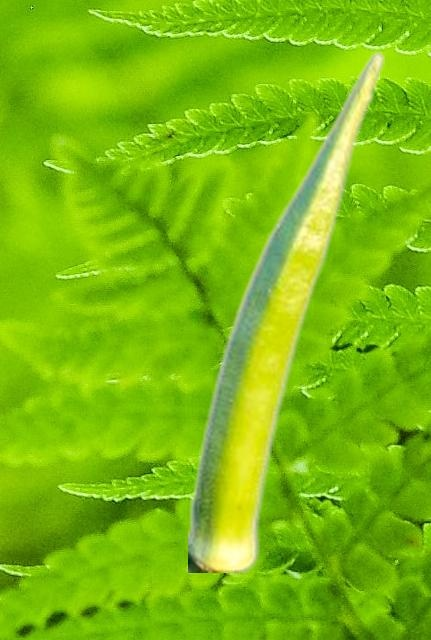okra: (188, 49, 383, 571)
